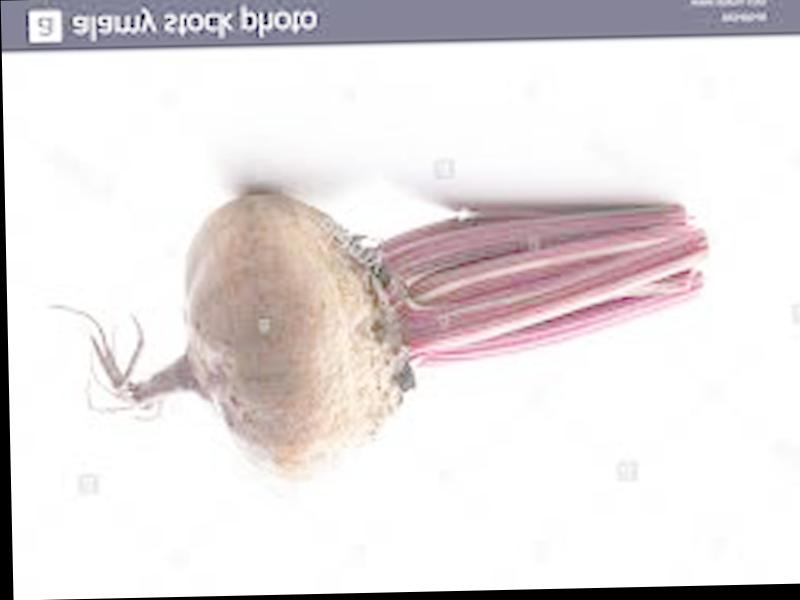Beet: (46, 181, 713, 484)
